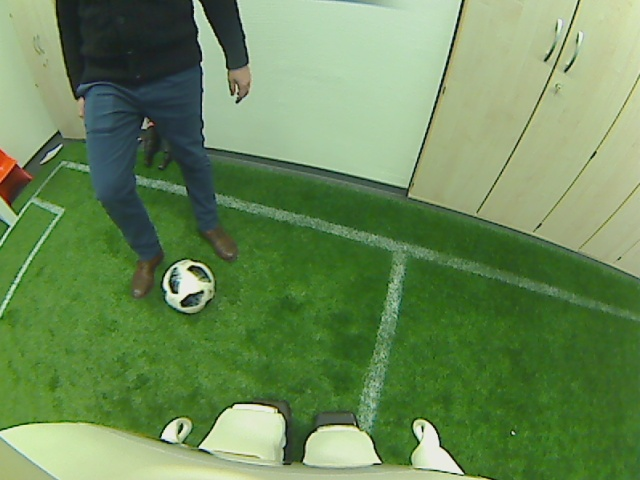ball: (159, 256, 216, 318)
